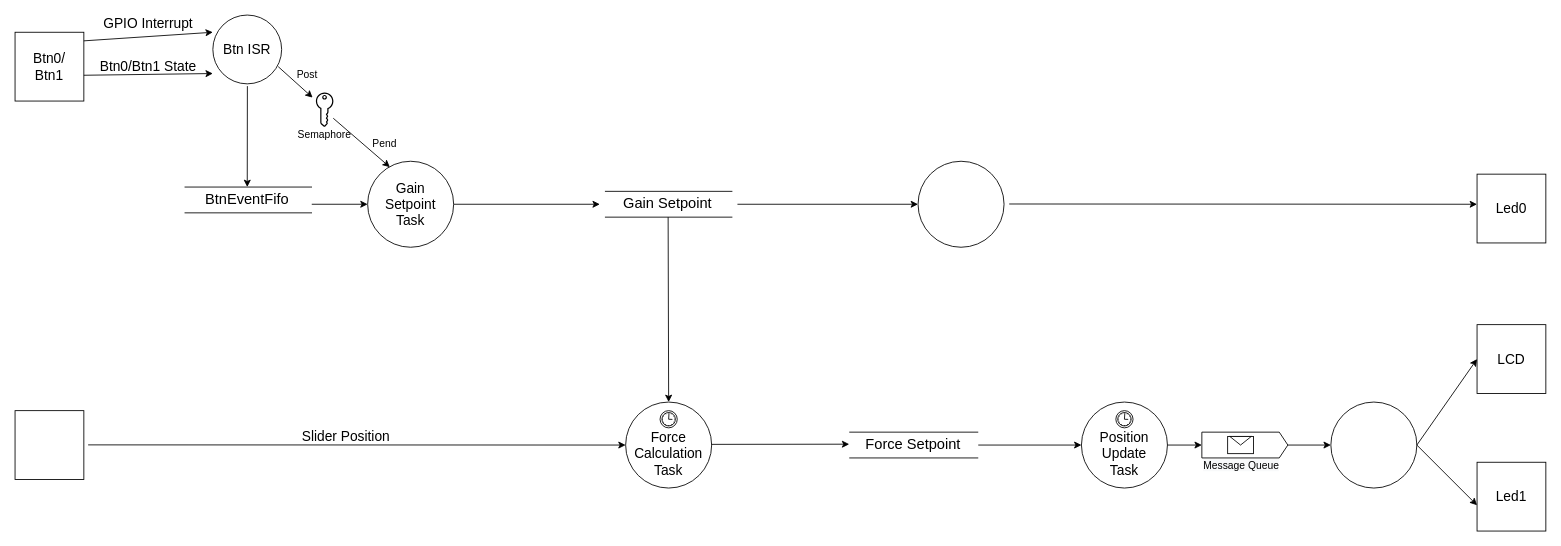
The diagram is 1561 pixels wide and 546 high, and some of its shapes have lost their labels. The centre of each missing label's shape, as x and y in pixels:
"LcdDisplay Task" belongs at (x=1373, y=444).
"Led0 PWM Task" belongs at (x=960, y=203).
"Touch Slider" belongs at (x=49, y=444).
